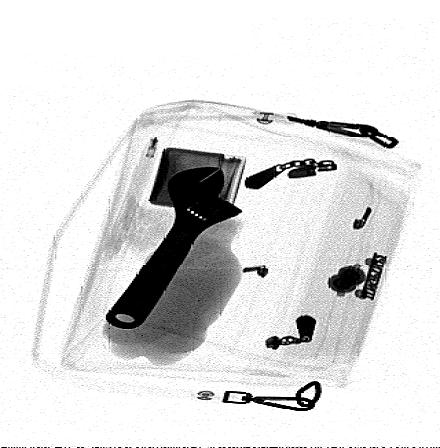Wrench: (104, 165, 244, 330)
